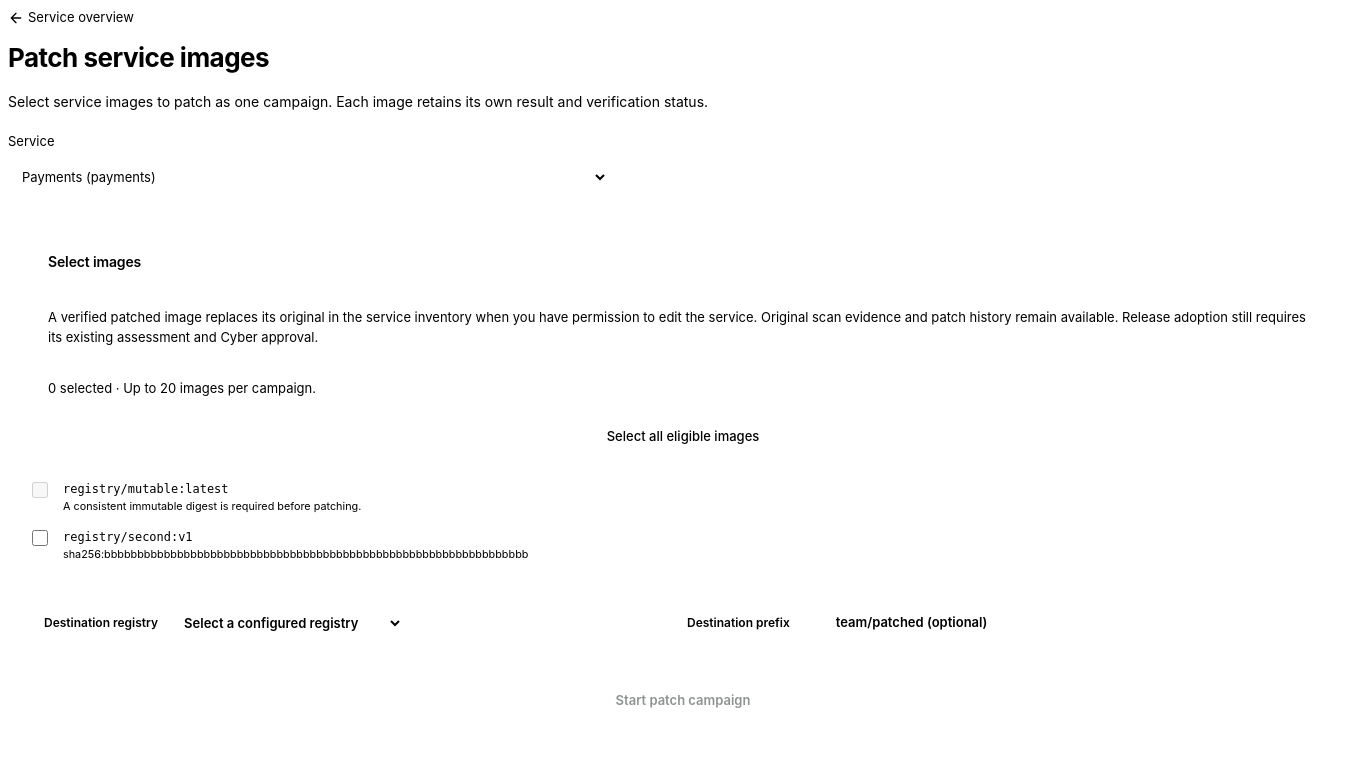
it: does not select a mutable tag without retained digest evidence
The width and height of the screenshot is (1366, 768).
Click the button "Select all eligible images" at (683, 437), box [28,419,1338,455]
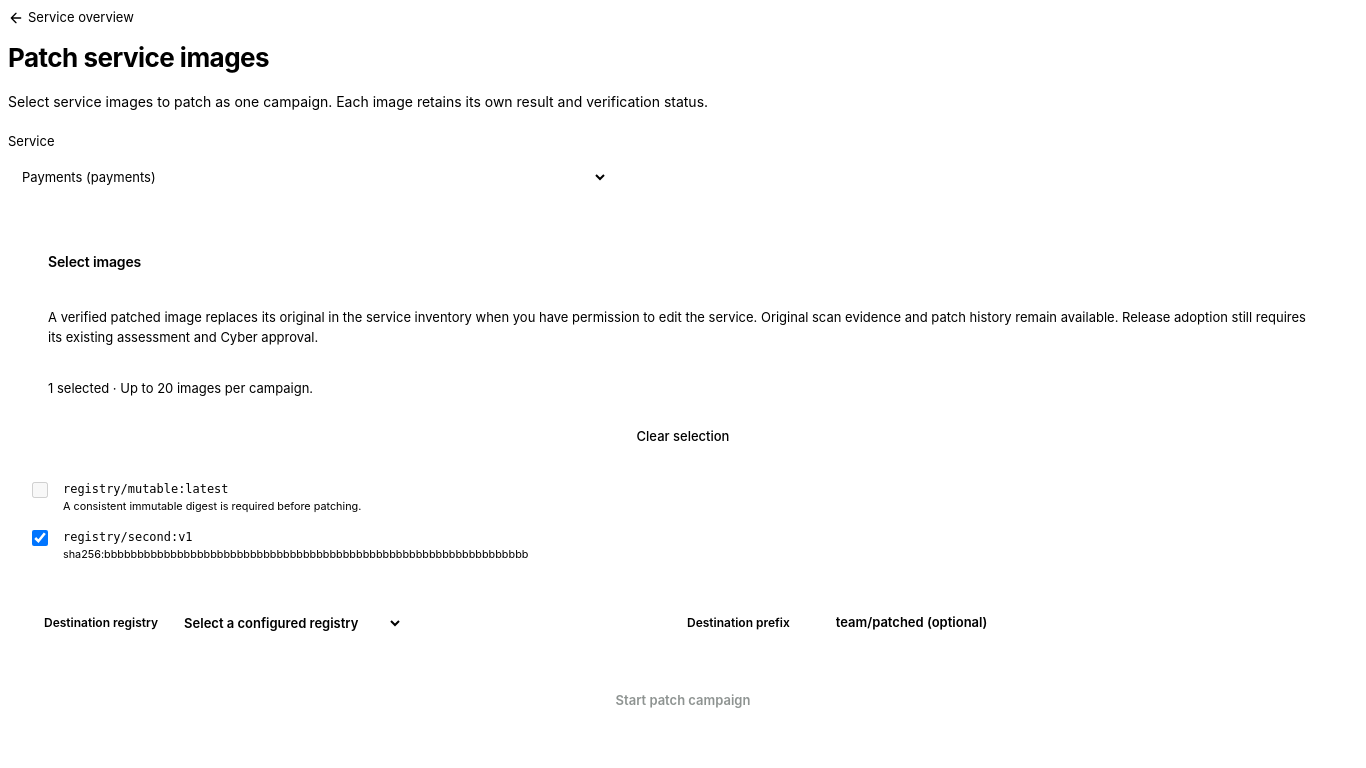
Expected: the 1st checkbox is disabled, [32,482,48,498]
Now the 2nd checkbox is checked, box [32,530,48,546]
